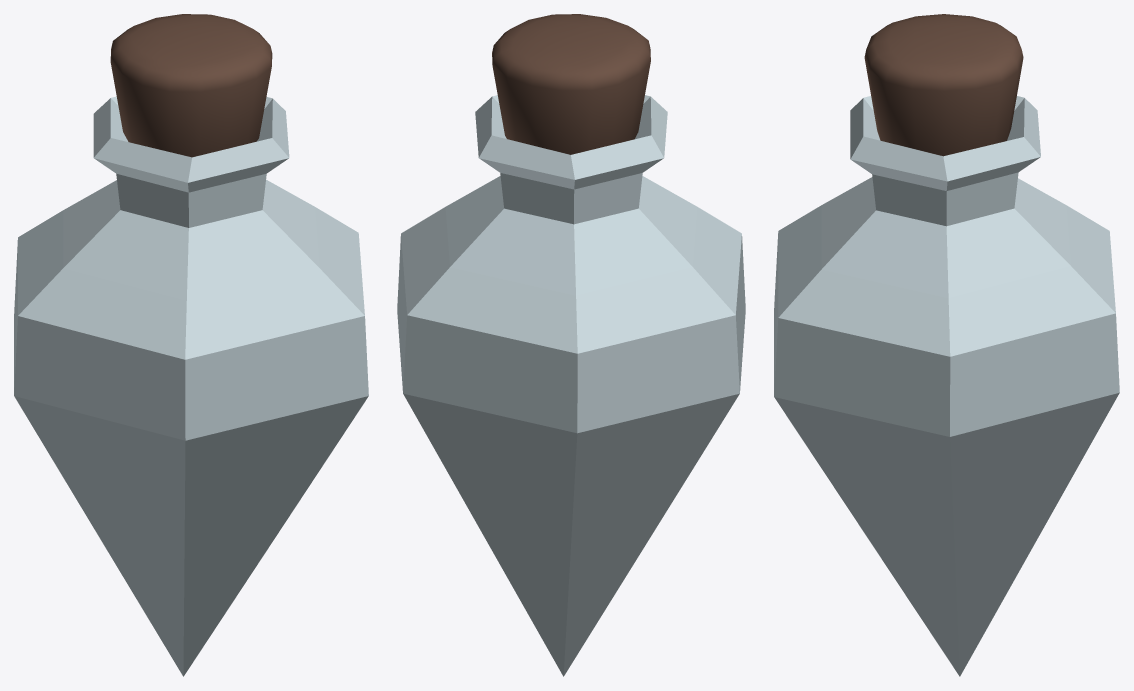
File: rpg_potion10_filled.glb
The picture shows the model from 3 angles, left to right: view 1: azimuth 30°, elevation 25°; view 2: azimuth 150°, elevation 25°; view 3: azimuth 270°, elevation 25°; orthographic projection.
Visible parts, largest first — view 1: Potion10_Filled; view 2: Potion10_Filled; view 3: Potion10_Filled.
Boxes of the visible parts, x1,y1,x2,y2 form: Potion10_Filled: [14, 14, 368, 676]; Potion10_Filled: [397, 14, 745, 676]; Potion10_Filled: [774, 14, 1119, 676].
Bounding box in the file's own units: 0.4379 × 0.7742 × 0.3792.
